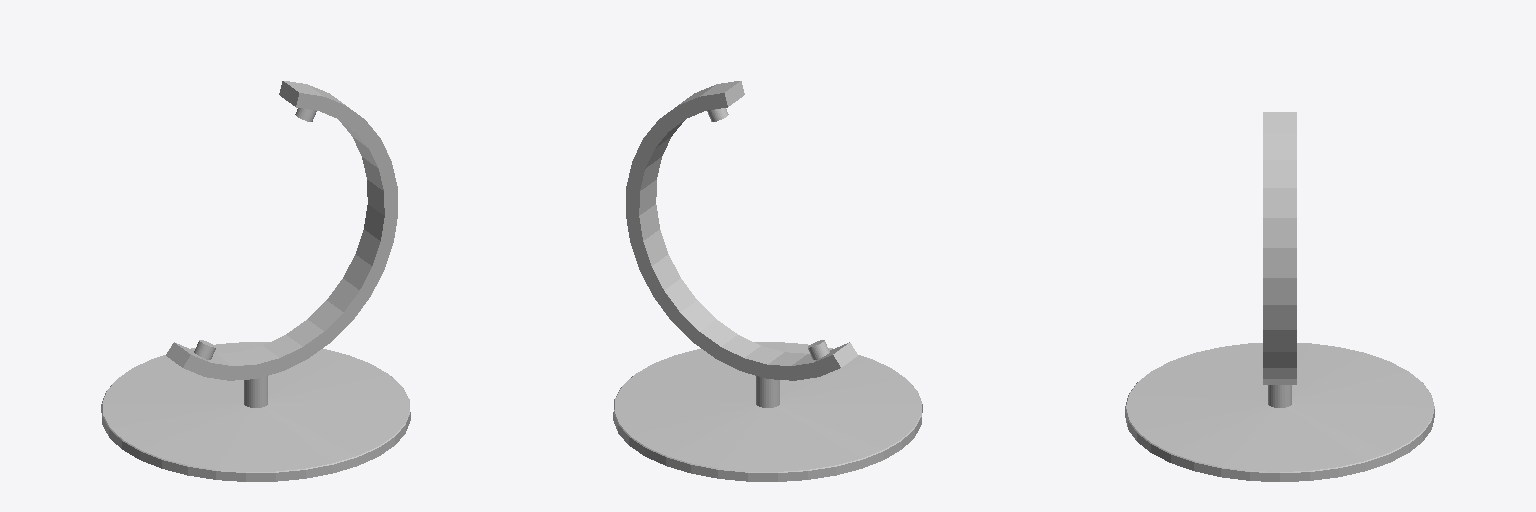
The model's file is globeHolder.obj.
3 renders of one model, left to right at view 1: azimuth 30°, elevation 25°; view 2: azimuth 150°, elevation 25°; view 3: azimuth 270°, elevation 25°, orthographic.
Visible parts, largest first — view 1: Circle, Circle.001_Circle.002; view 2: Circle, Circle.001_Circle.002; view 3: Circle, Circle.001_Circle.002.
Boxes of the visible parts, x1,y1,x2,y2 form: Circle: [101, 342, 410, 481]; Circle.001_Circle.002: [166, 81, 397, 380]; Circle: [613, 342, 922, 481]; Circle.001_Circle.002: [626, 81, 857, 380]; Circle: [1125, 343, 1434, 481]; Circle.001_Circle.002: [1263, 112, 1296, 384].
Bounding box in the file's own units: 2 × 2.29 × 2.